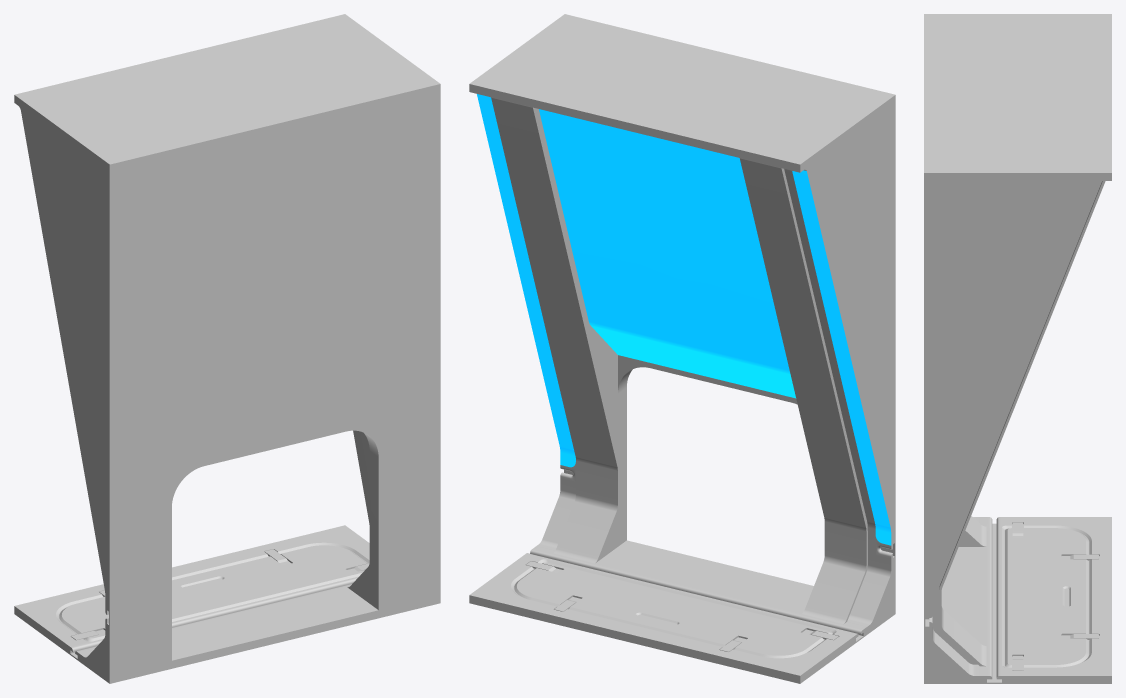
Rendered from SM_MOD_Laser_Wall_04_DoorWall_01.fbx.
3 views of the same model, side by side, from view 1: azimuth 30°, elevation 25°; view 2: azimuth 150°, elevation 25°; view 3: azimuth 270°, elevation 25° (orthographic).
Parts seen in each view (by area): view 1: SM_MOD_Laser_Wall_04_DoorWall_01_LOD0; view 2: SM_MOD_Laser_Wall_04_DoorWall_01_LOD0; view 3: SM_MOD_Laser_Wall_04_DoorWall_01_LOD0.
Boxes of the visible parts, box(x1,y1,x2,y2) form: SM_MOD_Laser_Wall_04_DoorWall_01_LOD0: box(14, 14, 440, 683); SM_MOD_Laser_Wall_04_DoorWall_01_LOD0: box(469, 14, 895, 683); SM_MOD_Laser_Wall_04_DoorWall_01_LOD0: box(924, 14, 1111, 683).
Size of what is drawn, in the model's own units: 512 by 768 by 256.
